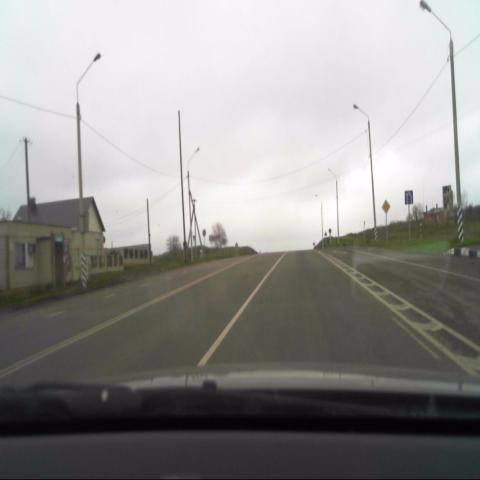2_1: (380, 199, 388, 213)
5_15_5: (404, 190, 412, 204)
